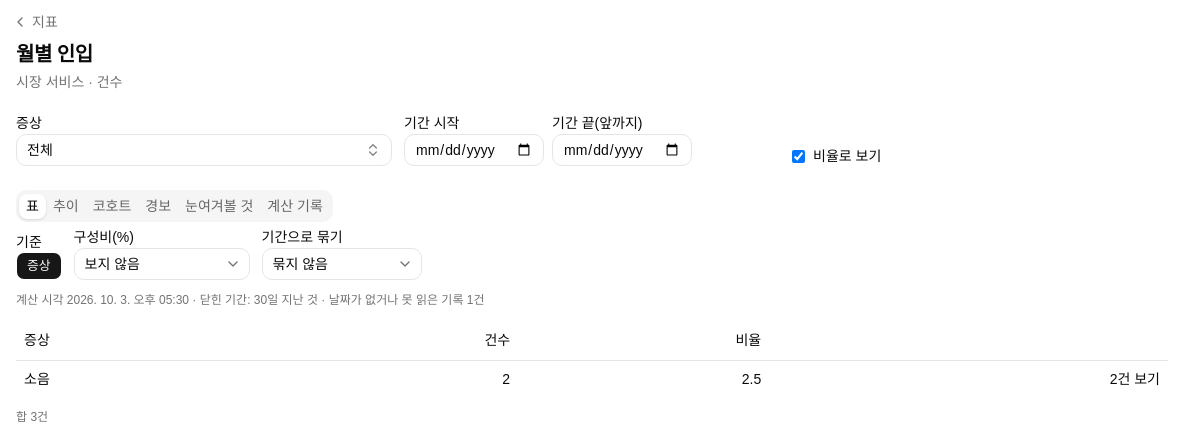
Test: 지표 상세 › 계산 기록은 실패한 계산의 이유를 보여 준다 — 옛 값이 왜 그대로인지
Expected: the heading "월별 인입" is shown, [16, 43, 93, 65]
Click the tab "계산 기록" at {"x": 295, "y": 206}, box [260, 194, 330, 218]
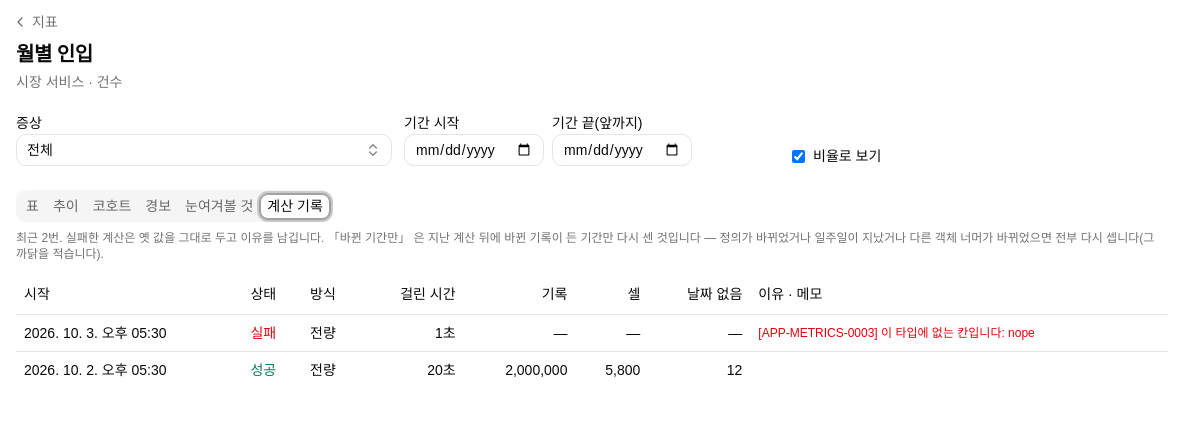
Now the text "실패" is shown, box [242, 314, 302, 351]
Now the text "[APP-METRICS-0003] 이 타입에 없는 칸입니다: nope" is shown, box [750, 314, 1168, 351]
Now the text "성공" is shown, box [242, 351, 302, 388]
